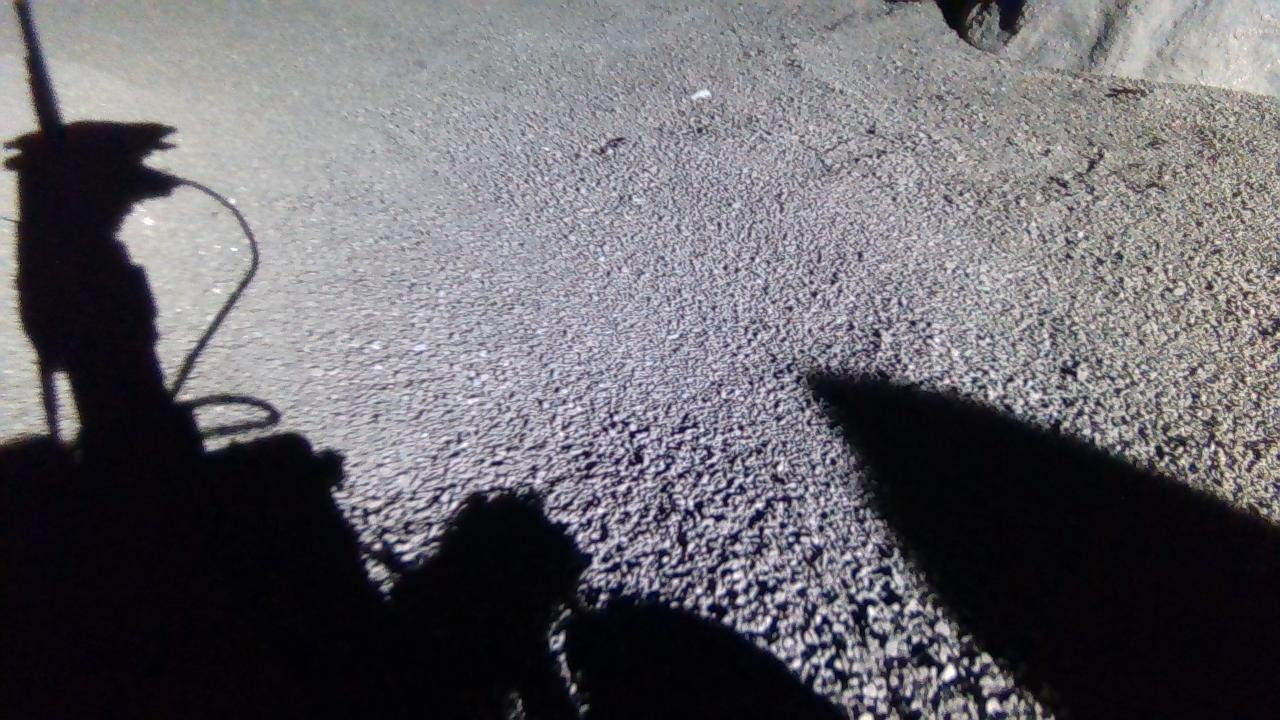rock: (942, 0, 1280, 94)
